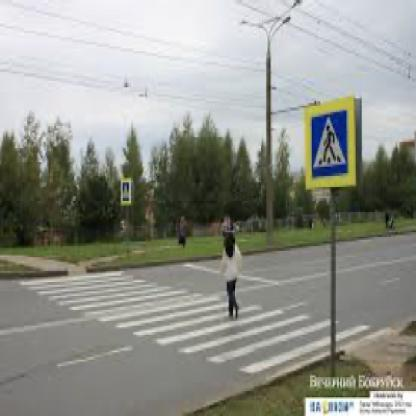crosswalk: (310, 109, 346, 175)
trafficlight: (121, 180, 130, 202)
